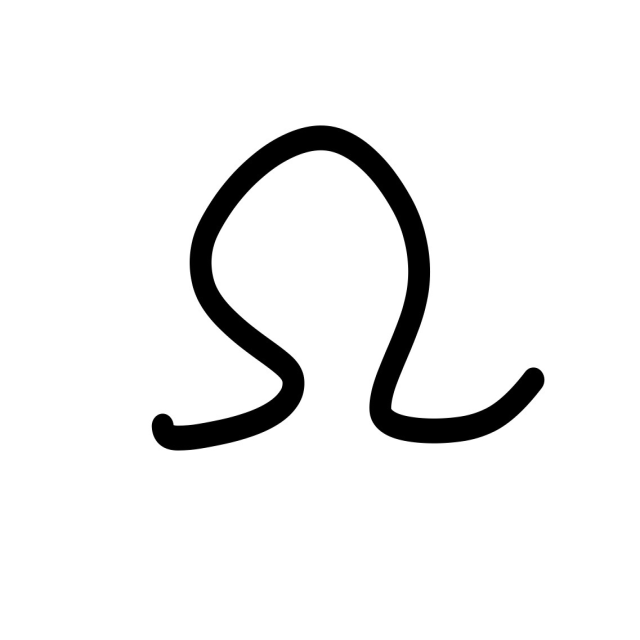ohms: (50, 91, 514, 475)
